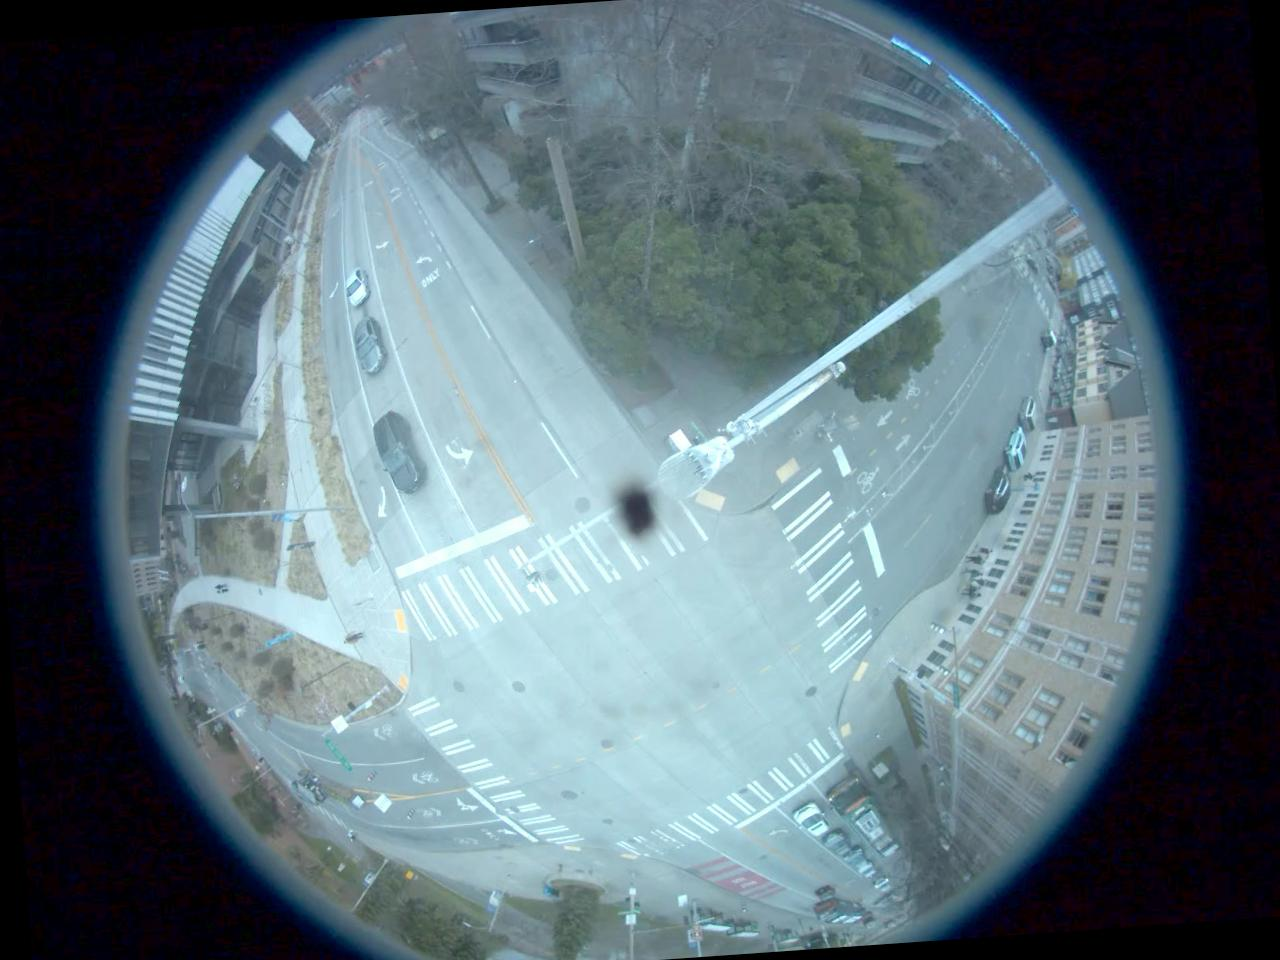bus: (829, 772, 901, 860), (811, 896, 866, 926)
car: (370, 410, 422, 494), (352, 316, 383, 377), (980, 462, 1013, 515), (342, 262, 373, 310), (1002, 424, 1029, 474), (1016, 391, 1042, 436), (795, 798, 825, 834), (819, 828, 849, 856), (811, 880, 838, 903), (842, 844, 864, 871), (861, 857, 872, 878)
person: (964, 550, 988, 567), (338, 632, 367, 646), (959, 564, 984, 580), (959, 588, 985, 602), (958, 576, 985, 588), (976, 544, 996, 556)
